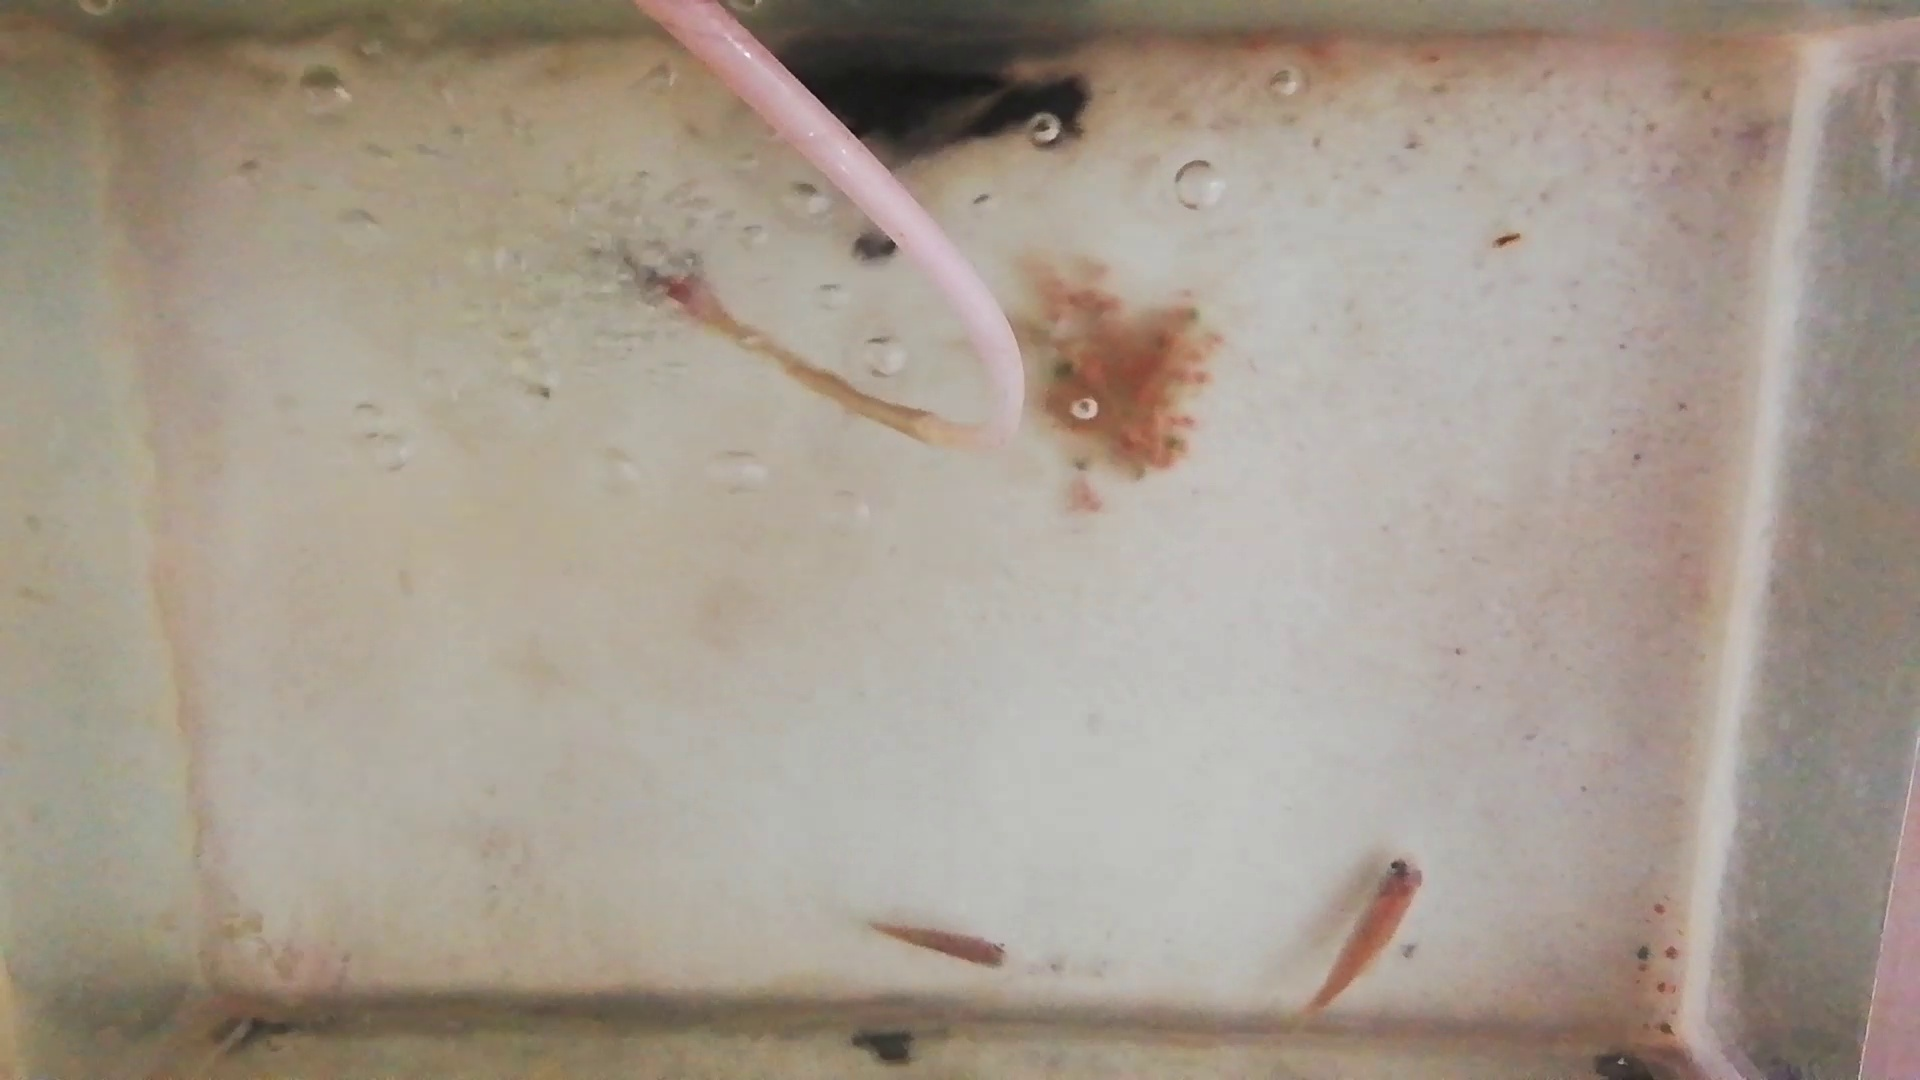fish: (1309, 860, 1428, 1005), (866, 918, 1013, 975)
